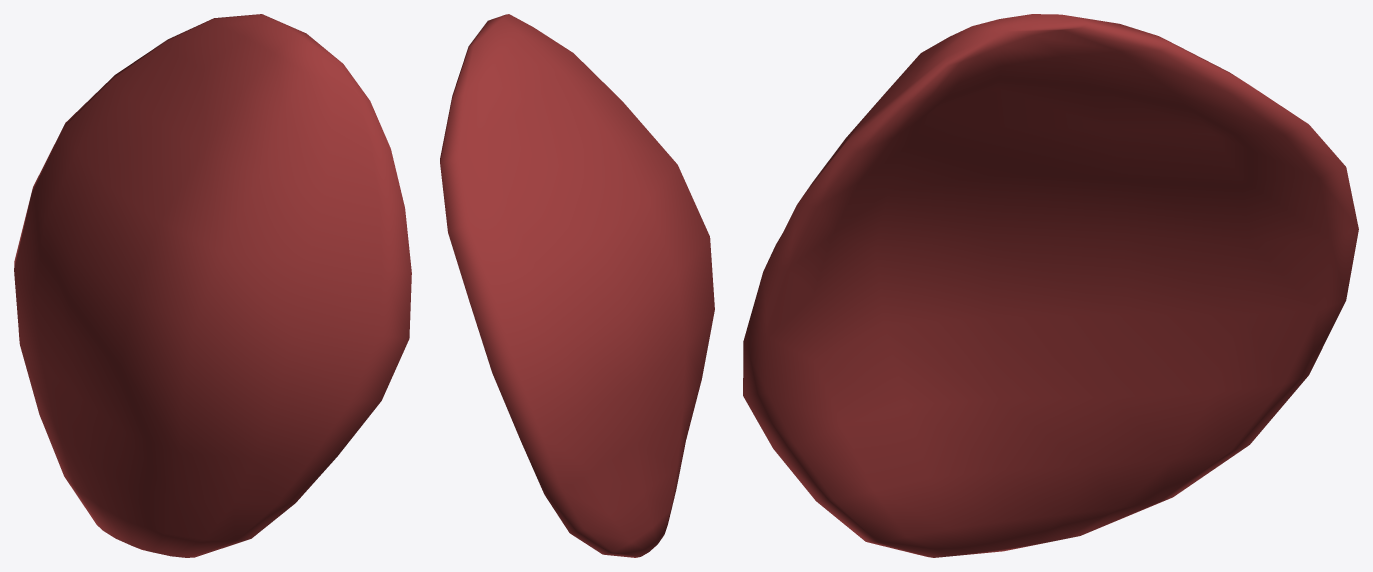
The model's file is subdeltoid-bursa-r.glb.
3 views of the same model, side by side, from view 1: azimuth 30°, elevation 25°; view 2: azimuth 150°, elevation 25°; view 3: azimuth 270°, elevation 25° (orthographic). The views are drawn at different scales.
Parts seen in each view (by area): view 1: Subdeltoid bursa.r; view 2: Subdeltoid bursa.r; view 3: Subdeltoid bursa.r.
Boxes of the visible parts, bbox=[...] form: Subdeltoid bursa.r: bbox=[14, 14, 411, 557]; Subdeltoid bursa.r: bbox=[440, 14, 714, 557]; Subdeltoid bursa.r: bbox=[743, 14, 1358, 557].
Bounding box in the file's own units: 0.014 × 0.0292 × 0.0257.
